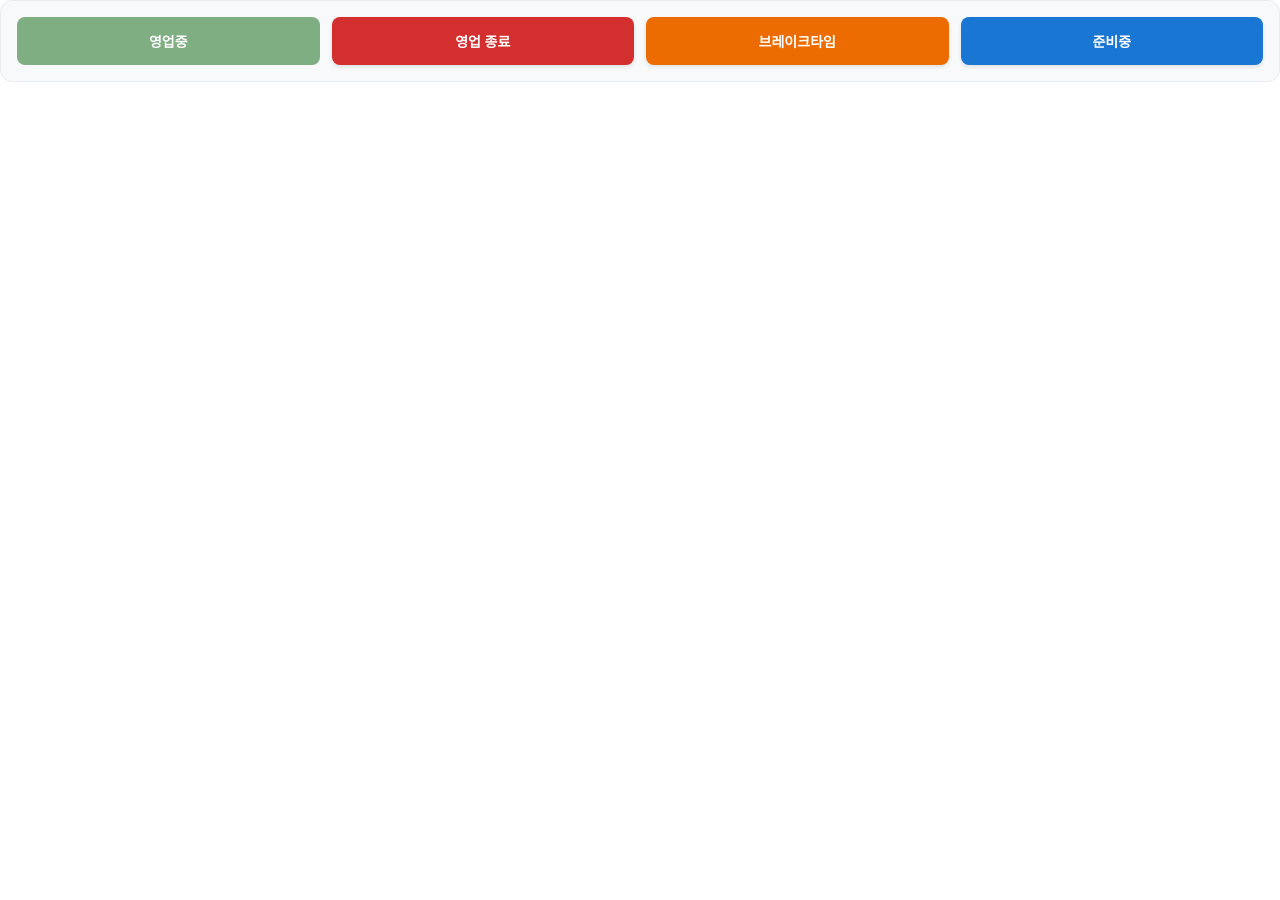
Test: PosStatusControl › handles error during status change
# 상태 변경 시도
Click the button "영업 종료".
click(483, 41)  # box [332,17,634,65]
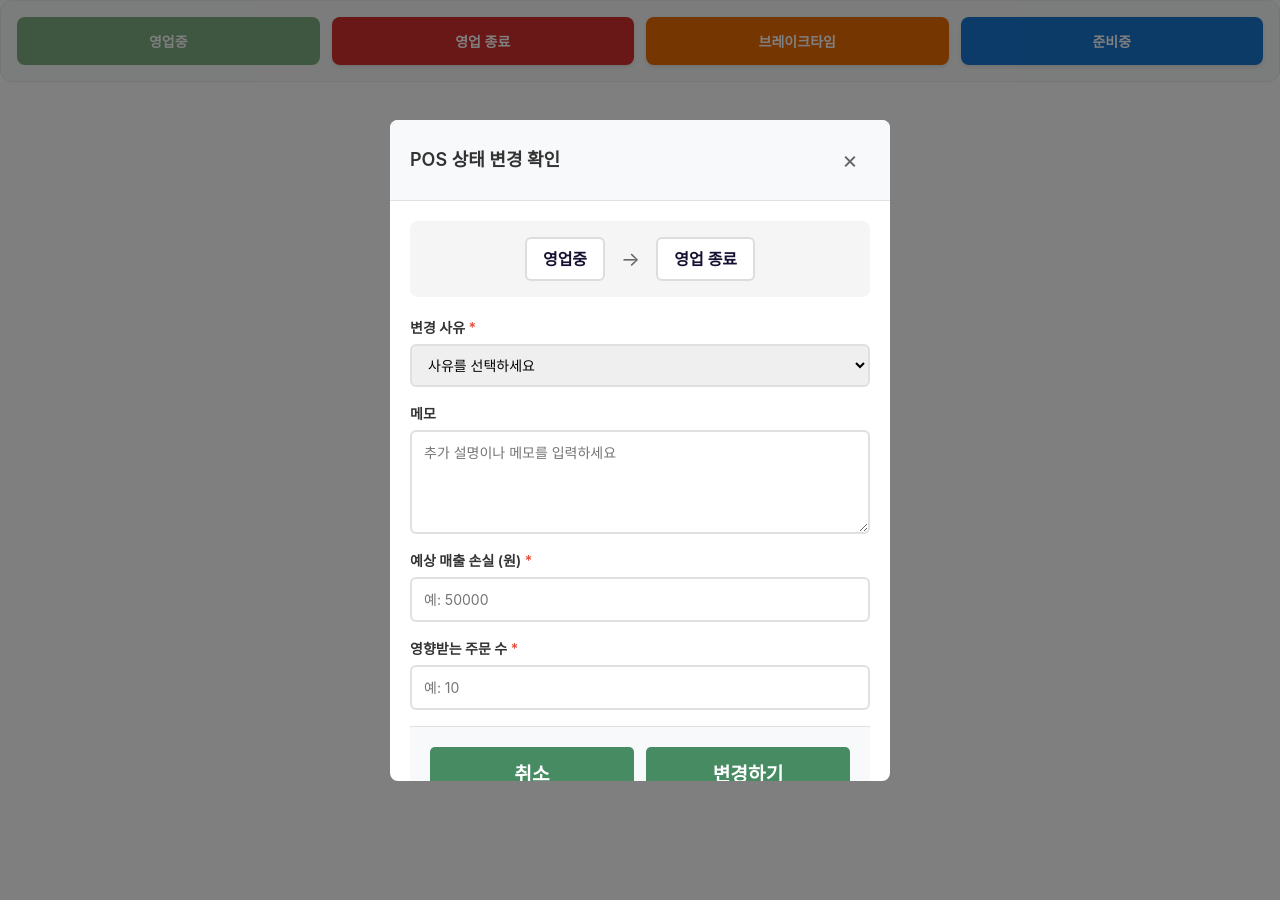
Expected: the dialog "상태 변경" is shown, [390,120,890,780]
Select "정기 휴무" in the dropdown labelled "변경 사유" at (640, 365), box [410,344,870,386]
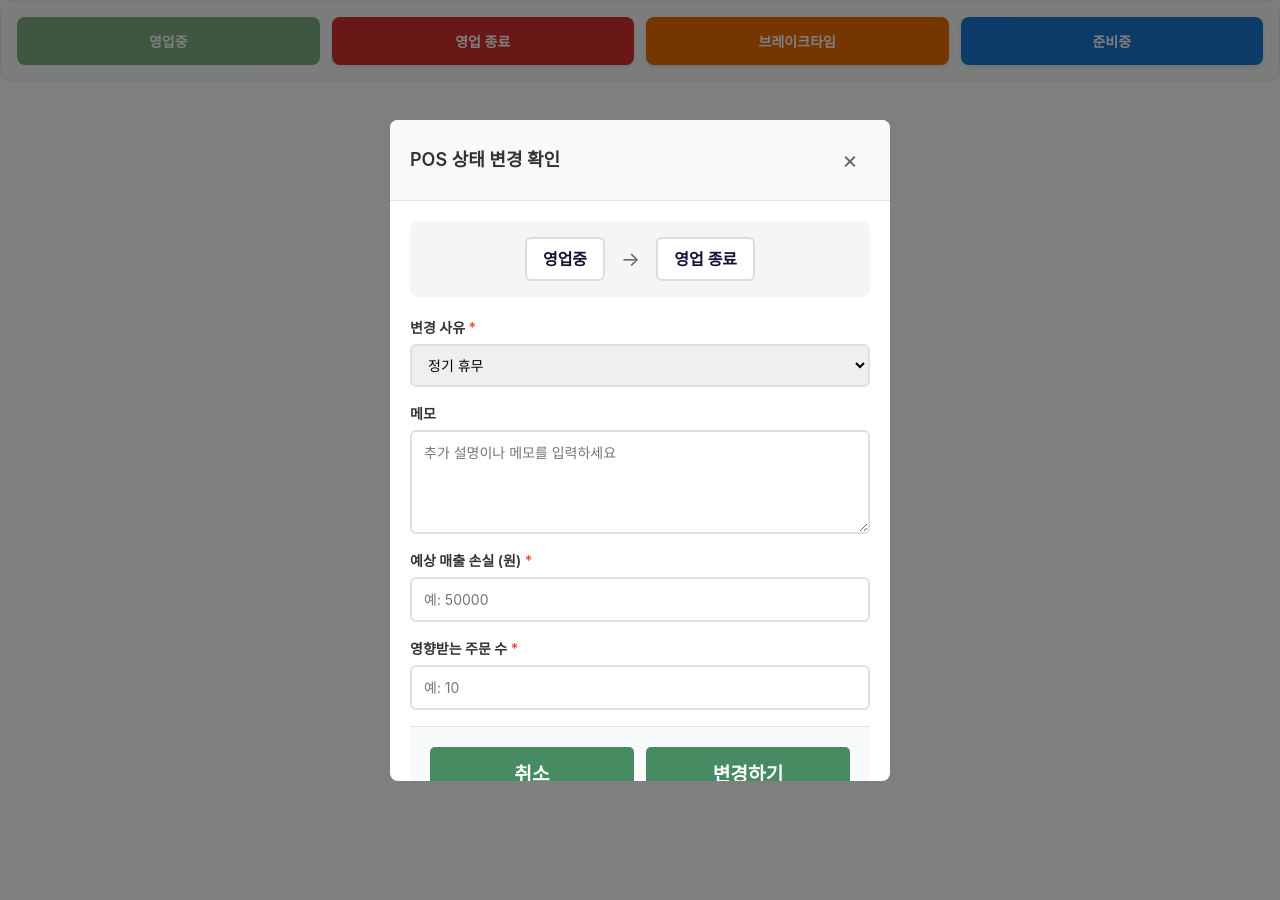
# 필수 필드들 채우기 (영업 종료 시 필요)
Type "50000" into the number field with placeholder "예: 50000".
click(640, 599); type("50000")  # box [410,576,870,622]
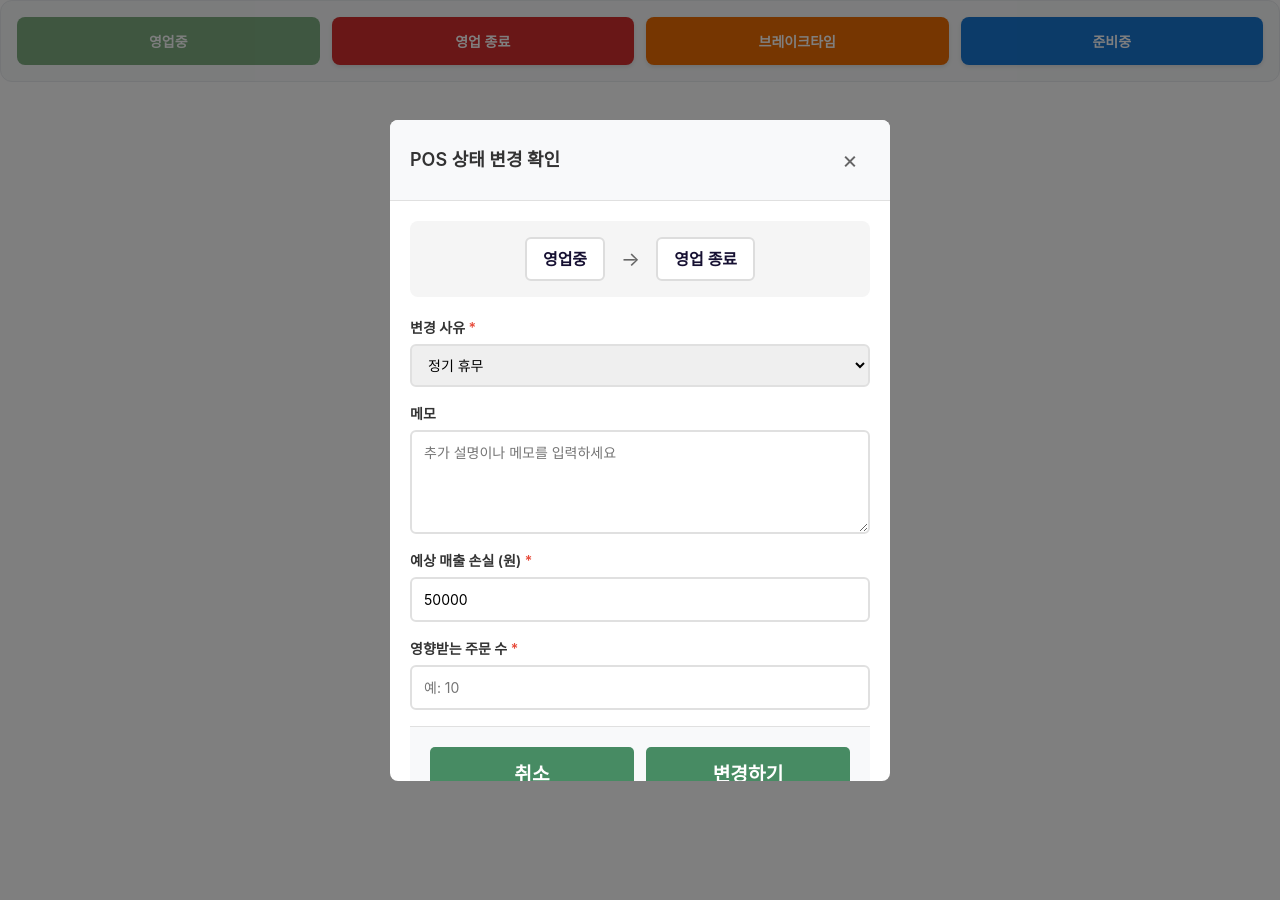
Type "5" into the number field with placeholder "예: 10".
click(640, 687); type("5")  # box [410,664,870,710]
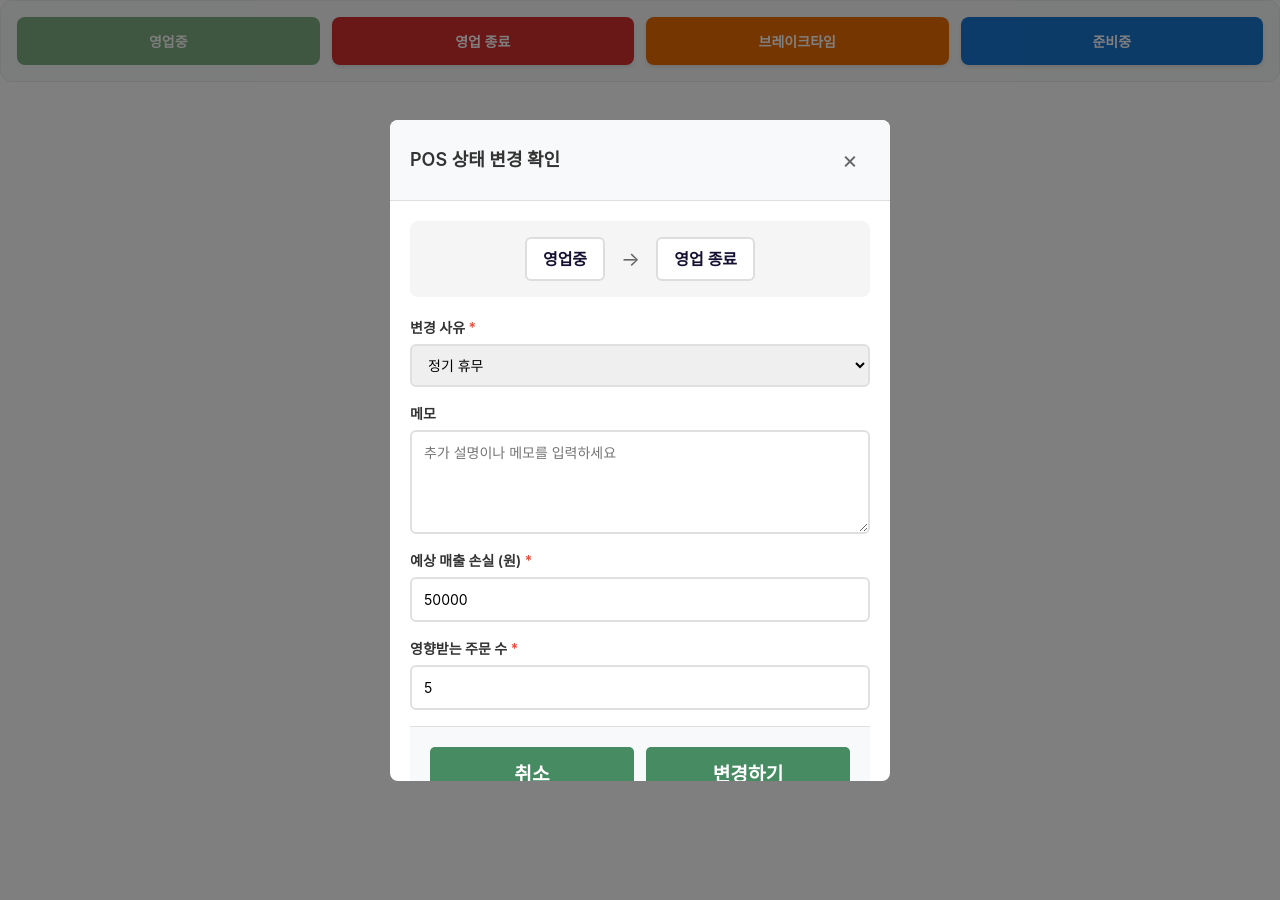
Click the button "변경하기".
click(748, 774)  # box [646,746,850,802]
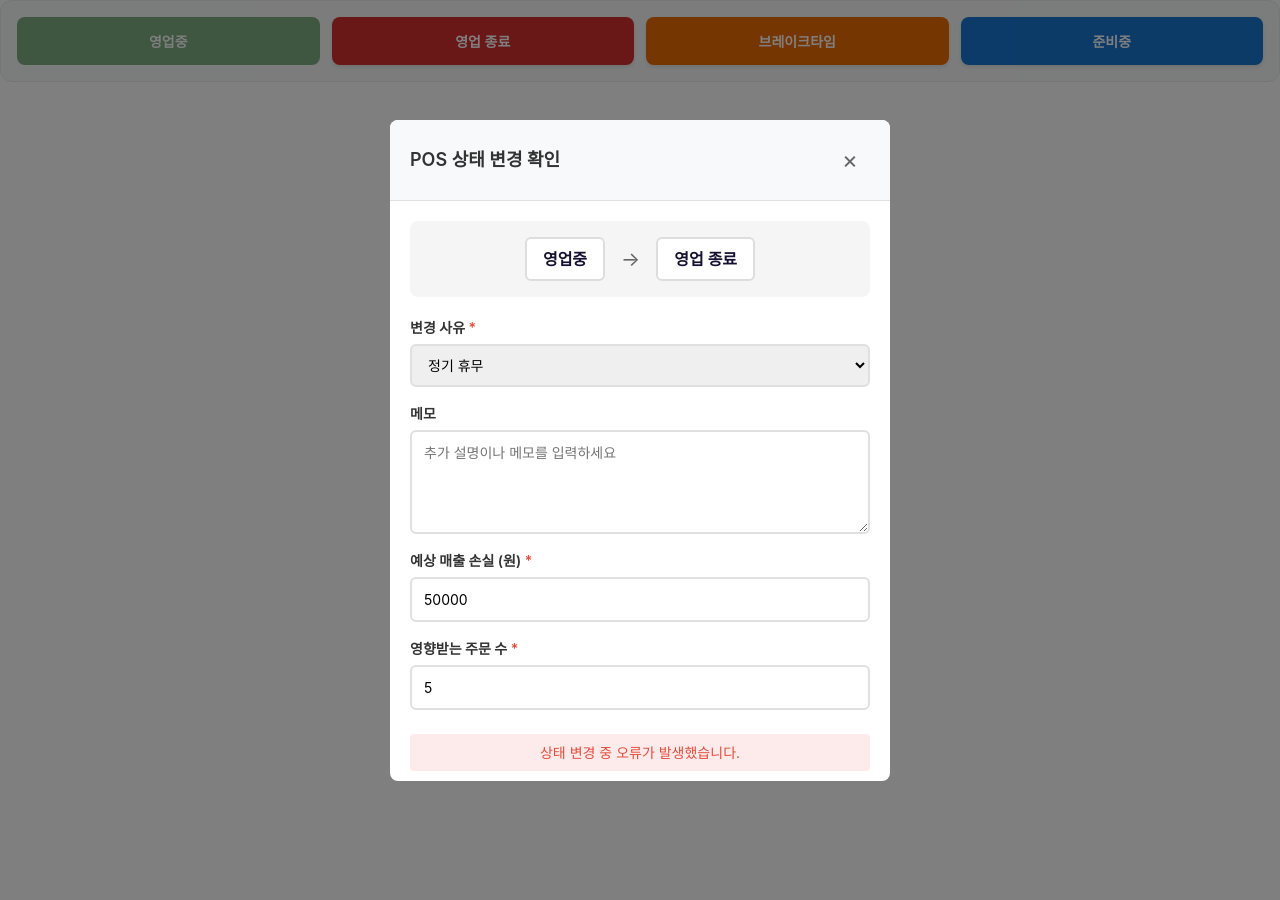
Expected: the text "상태 변경 중 오류가 발생했습니다." is shown, [410,734,870,770]
